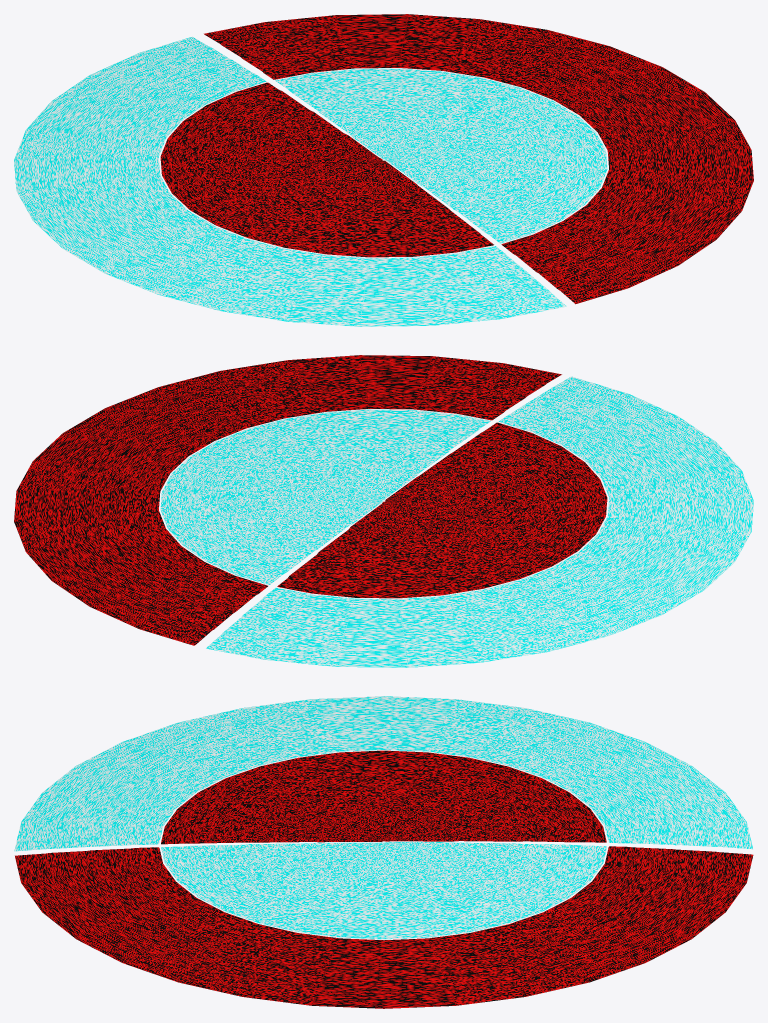
Rendered from SM_Circle_01_LGS.fbx.
The picture shows the model from 3 angles, top to bottom: view 1: azimuth 30°, elevation 25°; view 2: azimuth 150°, elevation 25°; view 3: azimuth 270°, elevation 25°; orthographic projection.
Visible parts, largest first — view 1: SM_Circle_01_LGS; view 2: SM_Circle_01_LGS; view 3: SM_Circle_01_LGS.
Boxes of the visible parts, x1,y1,x2,y2 form: SM_Circle_01_LGS: [14, 14, 753, 326]; SM_Circle_01_LGS: [14, 355, 753, 667]; SM_Circle_01_LGS: [14, 696, 753, 1008].
Size of the model in its own units: 65.74 by 1.03 by 65.74.
